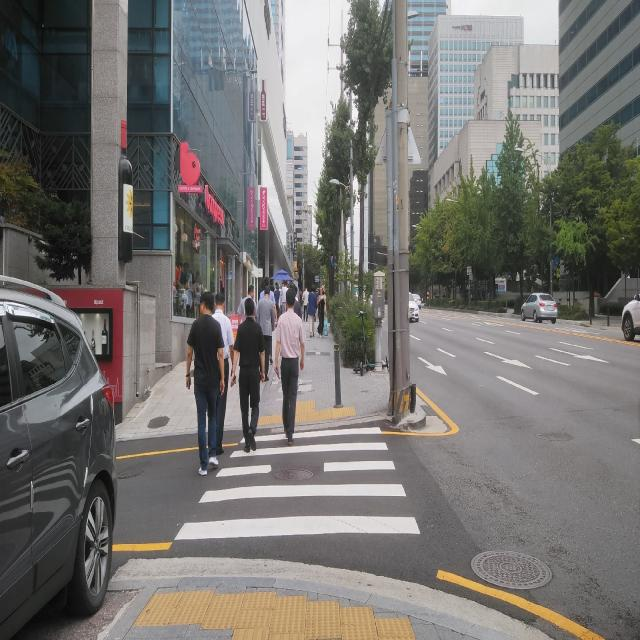횡단보도: (172, 424, 422, 542)
